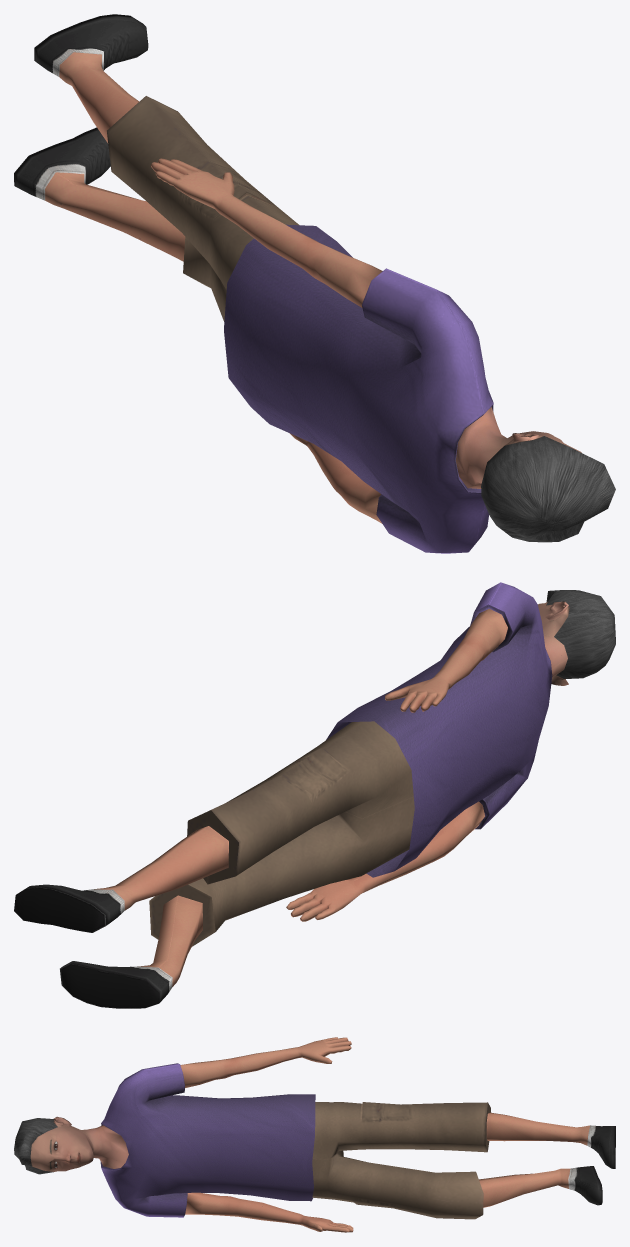
The model's file is walk.obj.
3 views of the same model, one above another, from view 1: azimuth 30°, elevation 25°; view 2: azimuth 150°, elevation 25°; view 3: azimuth 270°, elevation 25° (orthographic). The views are drawn at different scales.
Bounding box in the file's own units: 0.4534 × 0.5076 × 1.77.
Materials: 1 (1 with a texture image).
